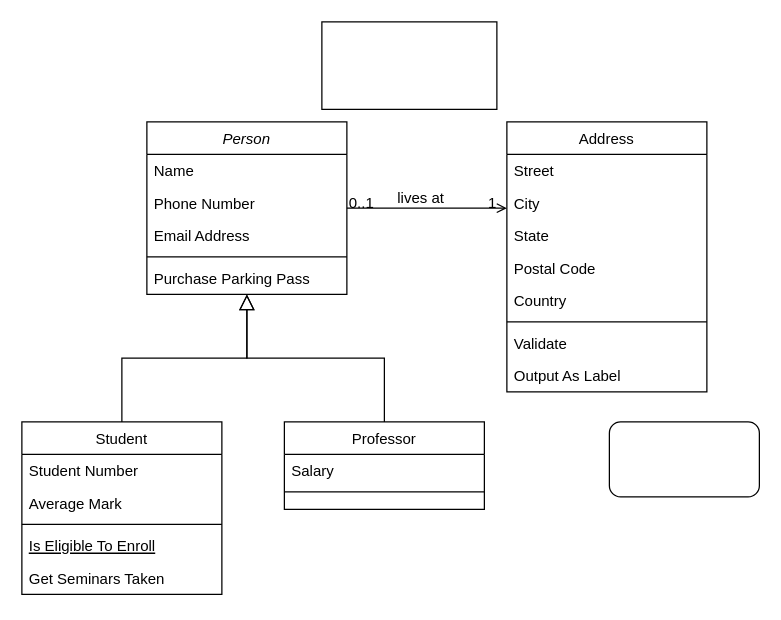
The diagram is 781 pixels wide and 620 high, and some of its shapes have lost their labels. The shapes that lost their labels are listed below. From the top down, each one's centre as x and y in pixels, then its label:
At (409,65): "Class".
At (683,459): "hb".
